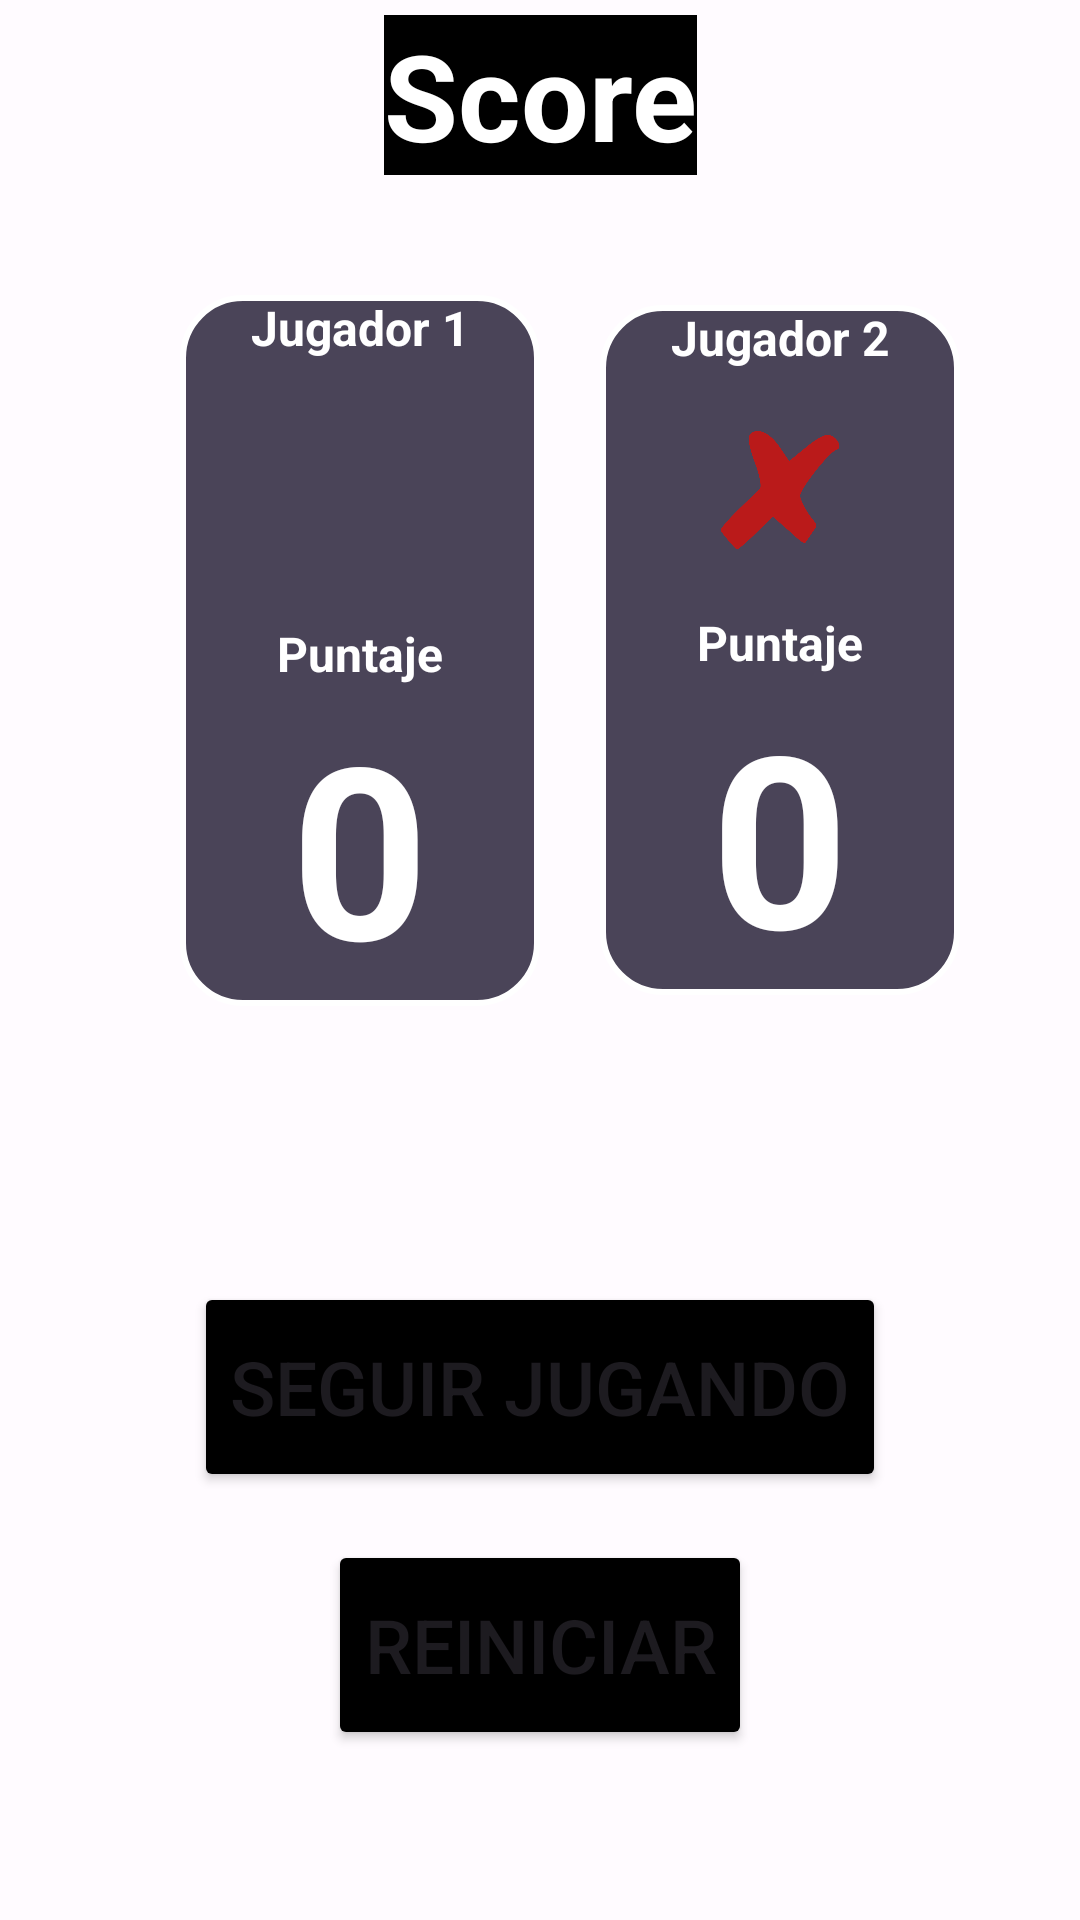

Named icons in this screenshot (1080px×1920px) and their centers, [x,y]:
equis: [780,490]
